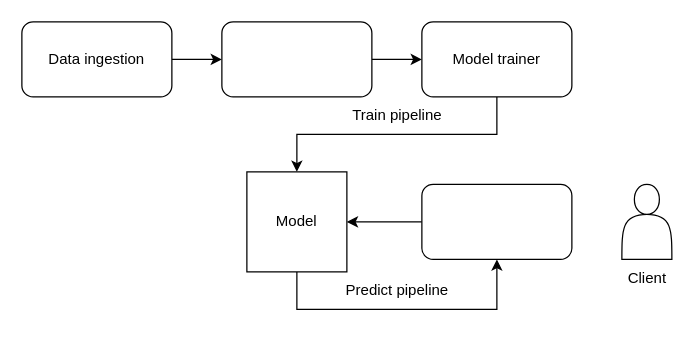
This 700x341 diagram has some shape labels left out. Each missing label, with the centre of its shape:
"Data transformation" goes at point 296,59.
"RESTful API" goes at point 496,221.
